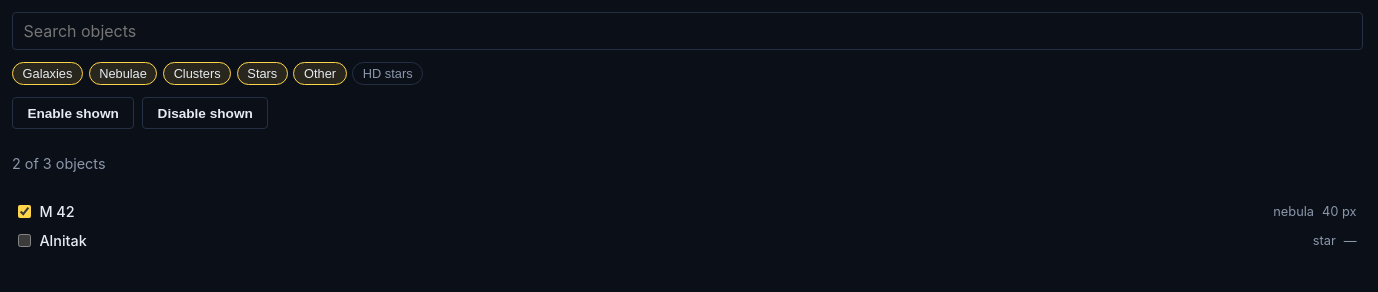
Test: ObjectsTab › hides hd rows until the HD toggle is on, and the star kind gates both
This screenshot has width=1378, height=292.
Click the button "HD stars". click: click(388, 74)
box: x1=352 y1=62 x2=423 y2=85
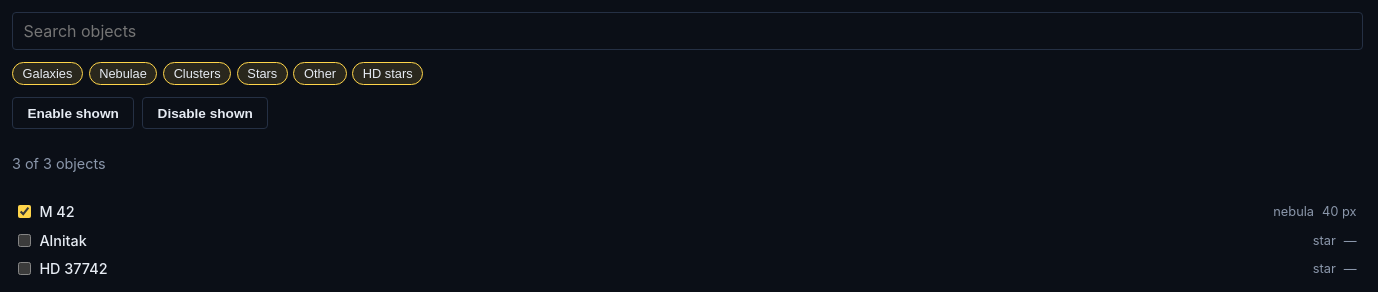
Check: the checkbox named "Show HD 37742" is shown, box x1=18 y1=262 x2=31 y2=275
Click the button "Stars". click: click(262, 74)
box: x1=237 y1=62 x2=288 y2=85
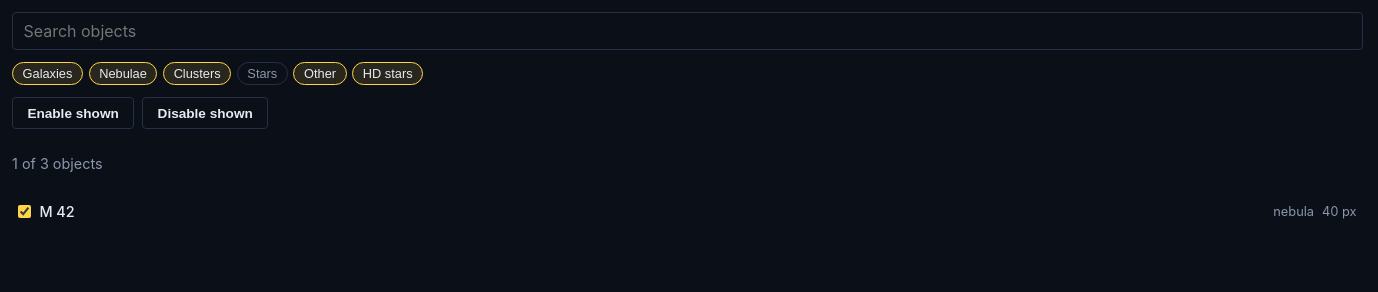
Check: the text "1 of 3 objects" is shown, box x1=12 y1=155 x2=103 y2=172
